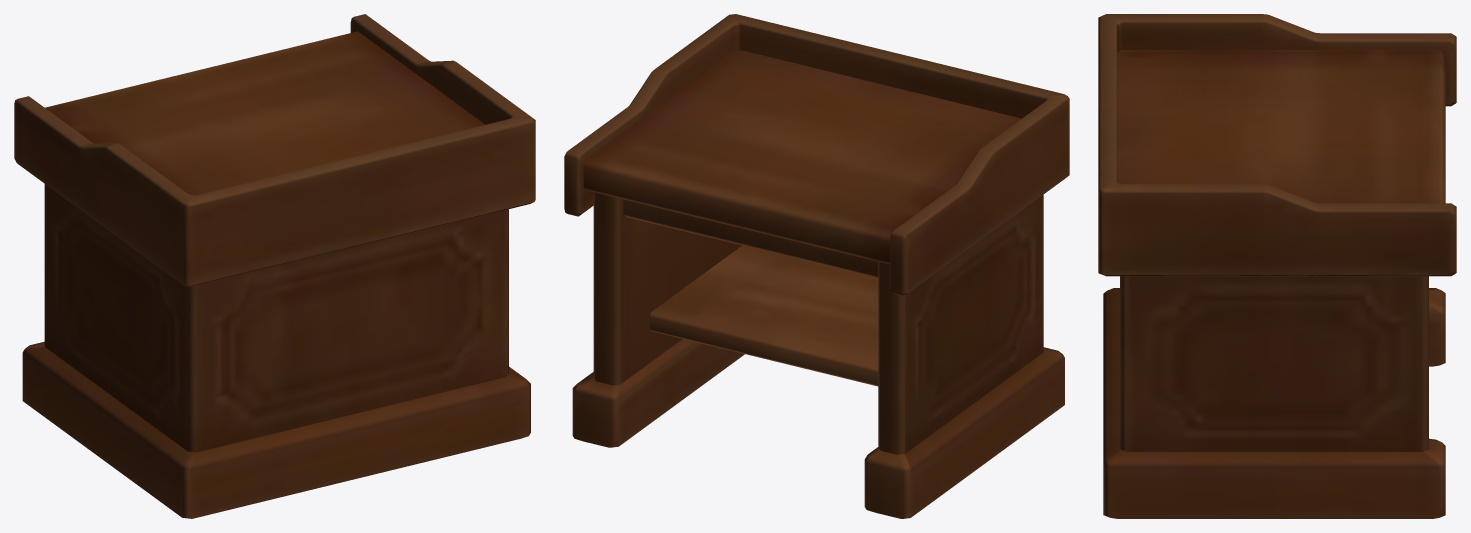
3 views of the same model, side by side, from view 1: azimuth 30°, elevation 25°; view 2: azimuth 150°, elevation 25°; view 3: azimuth 270°, elevation 25° (orthographic). The views are drawn at different scales.
Bounding box in the file's own units: 10 × 8.69 × 8.51.
Materials: 1 (1 with a texture image).
